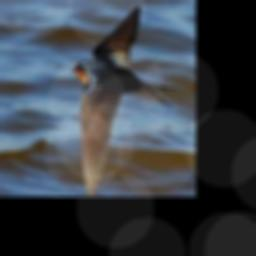Swallow: (71, 5, 177, 196)
